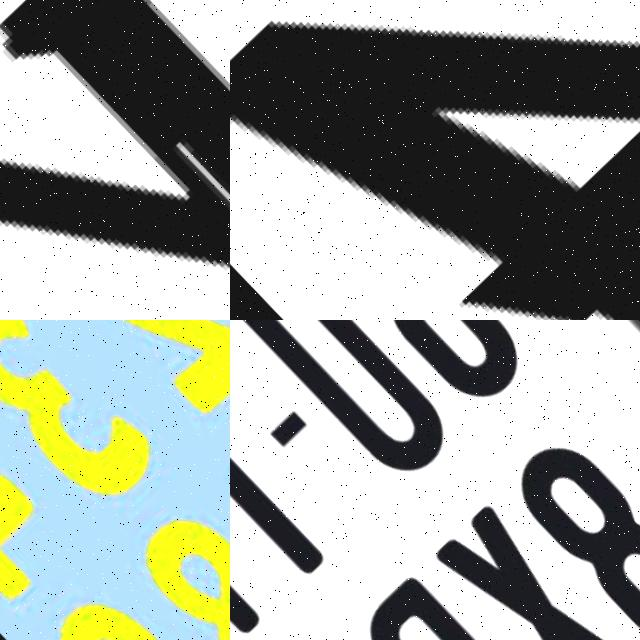2: (33, 320, 230, 421)
3: (0, 320, 175, 518)
4: (0, 370, 80, 616)
6: (302, 320, 547, 417)
8: (497, 416, 640, 640), (132, 491, 230, 640)
9: (42, 576, 230, 640)
B: (345, 564, 586, 640)
H: (230, 441, 274, 640)
T: (230, 358, 355, 596)
U: (230, 320, 467, 492)
X: (430, 496, 640, 640)
